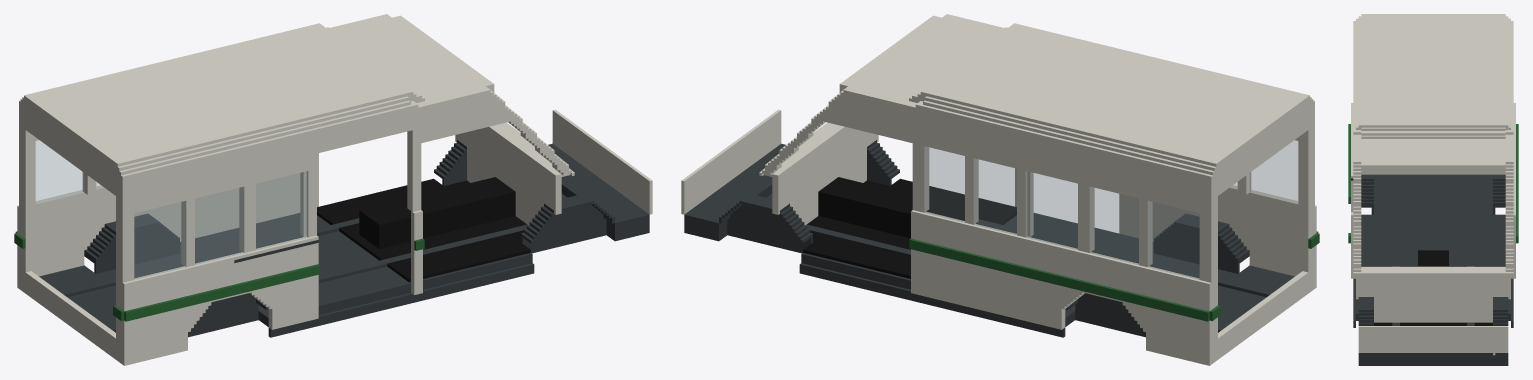
Rendered from minibus_shell.glb.
3 views of the same model, side by side, from view 1: azimuth 30°, elevation 25°; view 2: azimuth 150°, elevation 25°; view 3: azimuth 270°, elevation 25° (orthographic). The views are drawn at different scales.
Parts seen in each view (by area): view 1: body:compound; view 2: body:compound; view 3: body:compound.
Part boxes in pixels (box(x1,y1,x2,y2)): body:compound: box(14, 14, 652, 365); body:compound: box(681, 14, 1319, 365); body:compound: box(1348, 14, 1518, 365).
Size of the model in its own units: 5.78 by 2.12 by 2.06.
